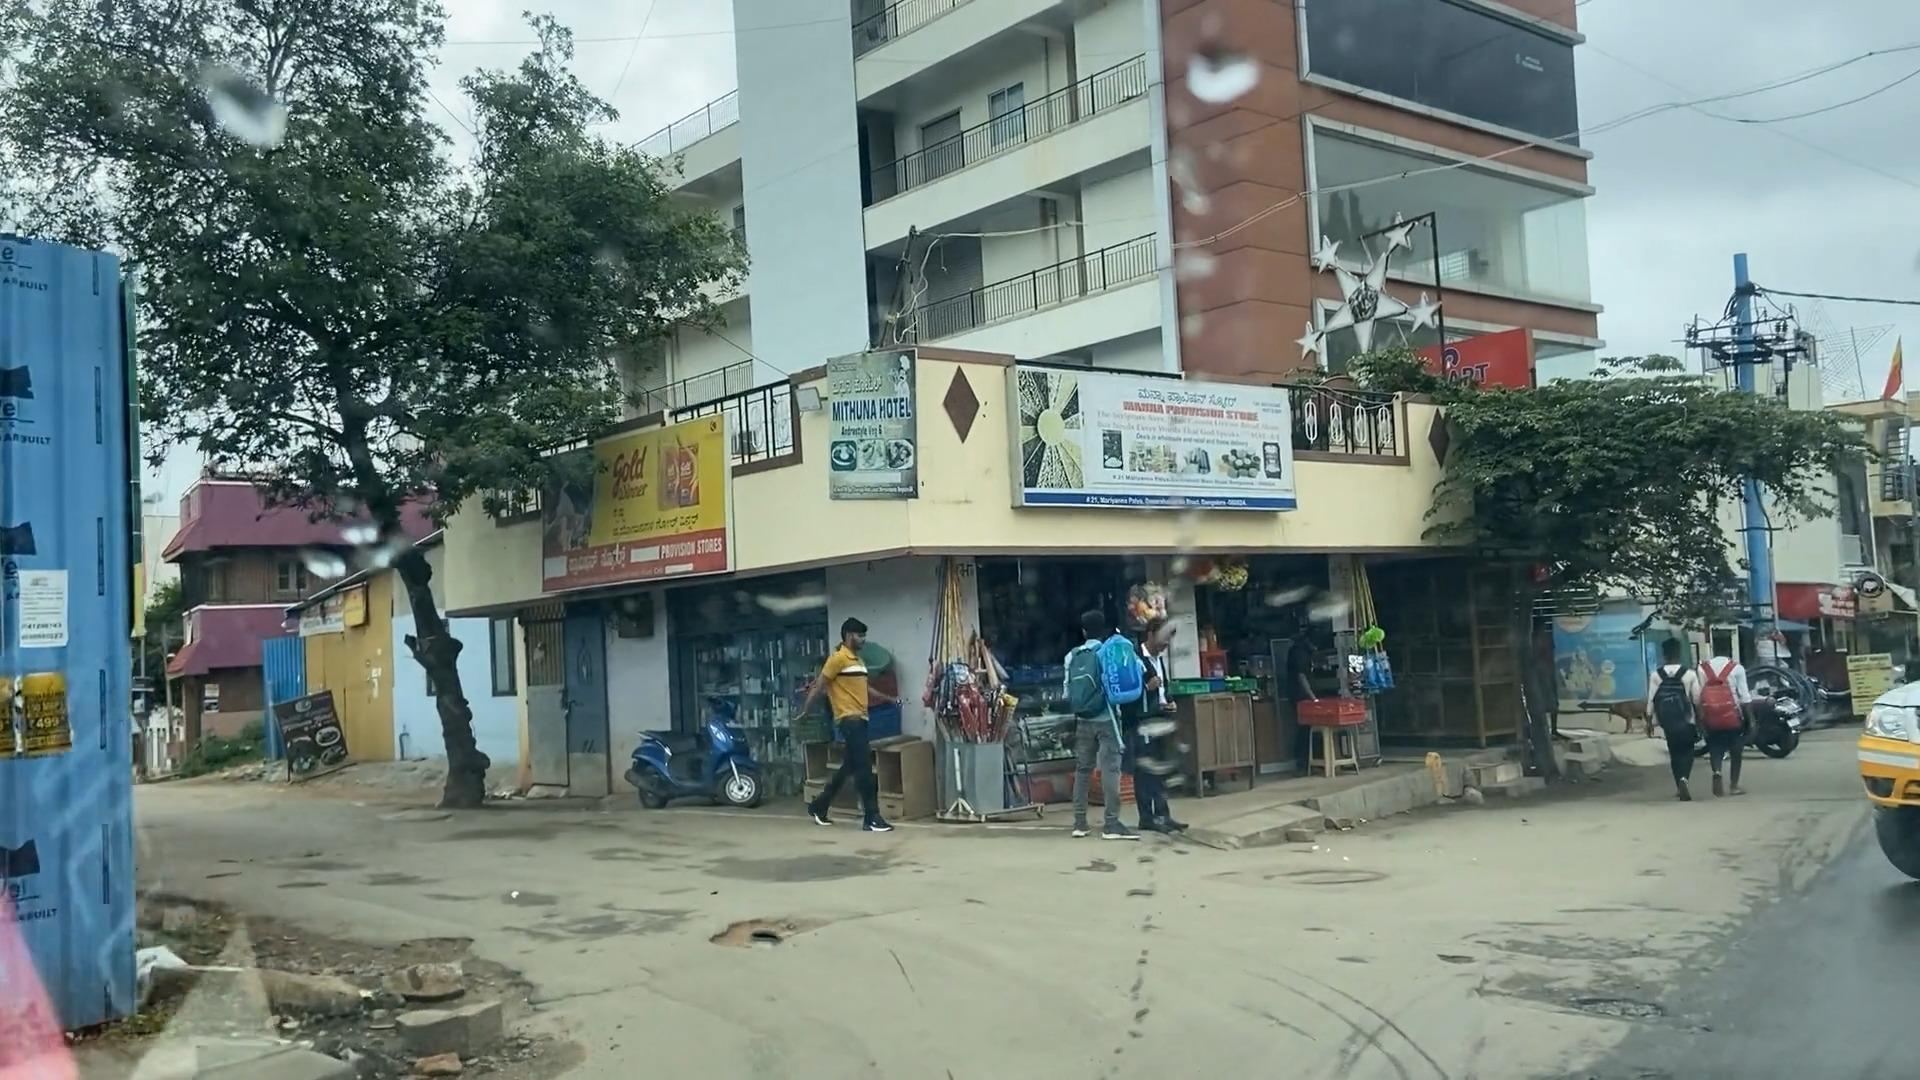RoadDamages: (406, 927, 587, 1080), (1493, 967, 1701, 1044), (676, 907, 880, 975)
